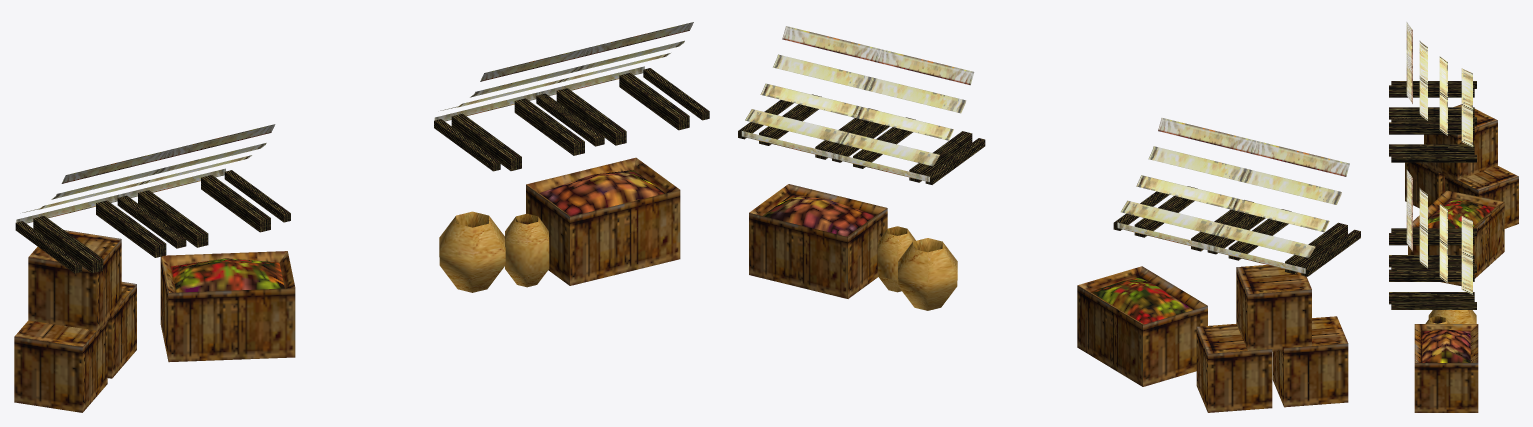
The model's file is pers_alt_build_02_prop.dae.
3 renders of one model, left to right at view 1: azimuth 30°, elevation 25°; view 2: azimuth 150°, elevation 25°; view 3: azimuth 270°, elevation 25°, orthographic. The views are drawn at different scales.
Visible parts, largest first — view 1: Object09; view 2: Object09; view 3: Object09.
Boxes of the visible parts, left/top/right/bottom form: Object09: left=14, top=22, right=709, bottom=412; Object09: left=738, top=26, right=1360, bottom=412; Object09: left=1389, top=22, right=1518, bottom=412.
Size of the model in its own units: 15.69 by 3.71 by 5.73.
